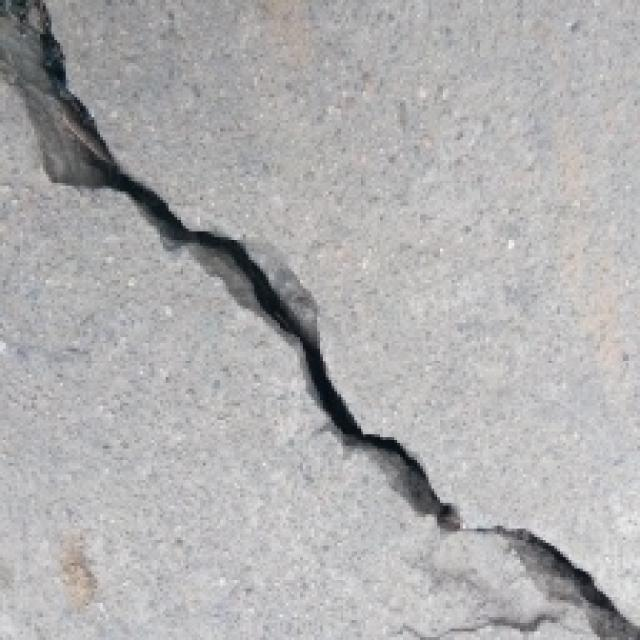SurfaceCrack: (2, 4, 610, 640)
